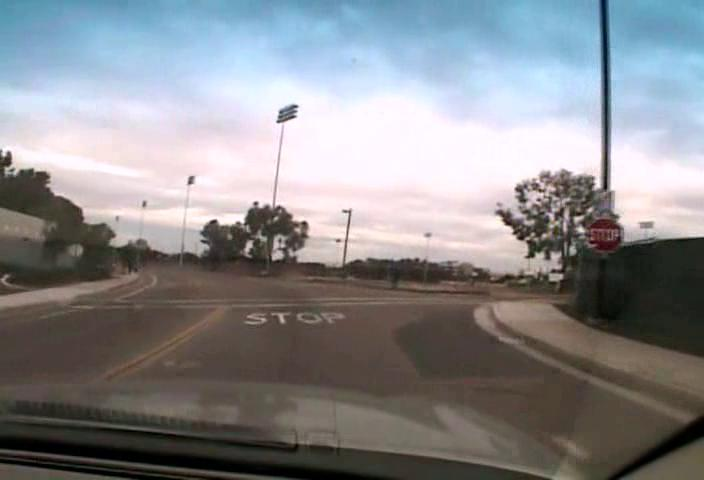stop: (586, 217, 623, 254)
